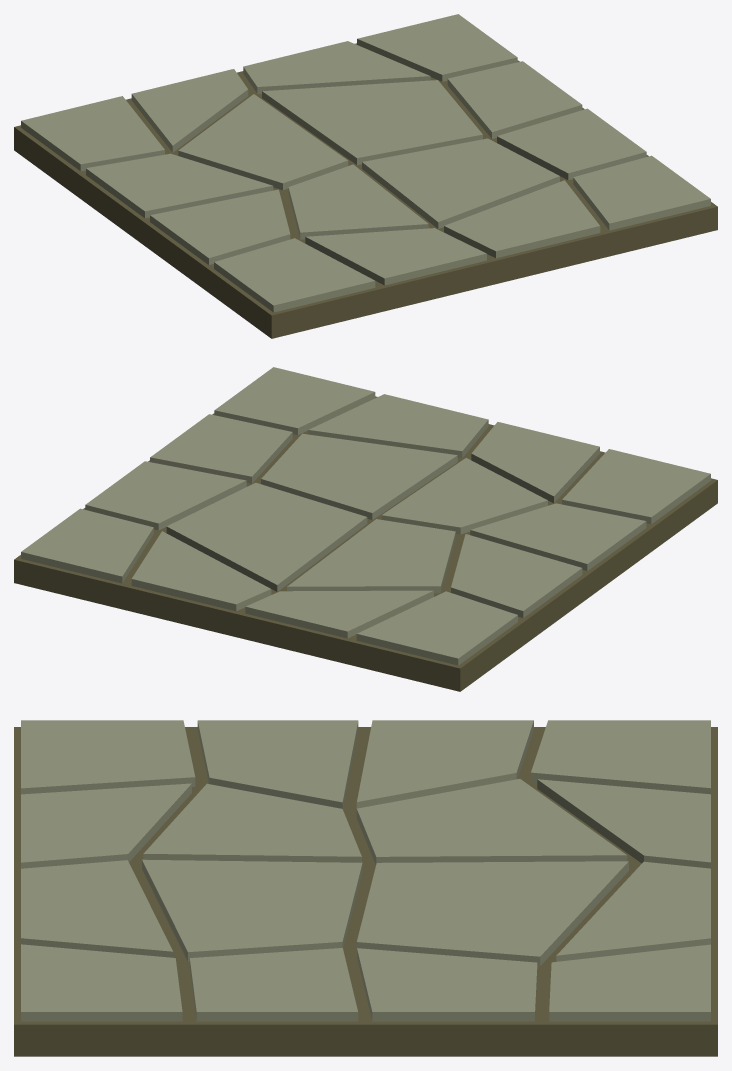
Rendered from Cobble.fbx.
3 renders of one model, top to bottom at view 1: azimuth 30°, elevation 25°; view 2: azimuth 150°, elevation 25°; view 3: azimuth 270°, elevation 25°, orthographic. The views are drawn at different scales.
Visible parts, largest first — view 1: Stones, Mortar; view 2: Stones, Mortar; view 3: Stones, Mortar.
Part boxes in pixels (x1,y1,x2,y2): Stones: [21, 14, 710, 312]; Mortar: [14, 43, 717, 338]; Stones: [21, 367, 710, 665]; Mortar: [14, 396, 717, 691]; Stones: [21, 720, 710, 1021]; Mortar: [14, 727, 717, 1056].
Bounding box in the file's own units: 200 × 13 × 200.
